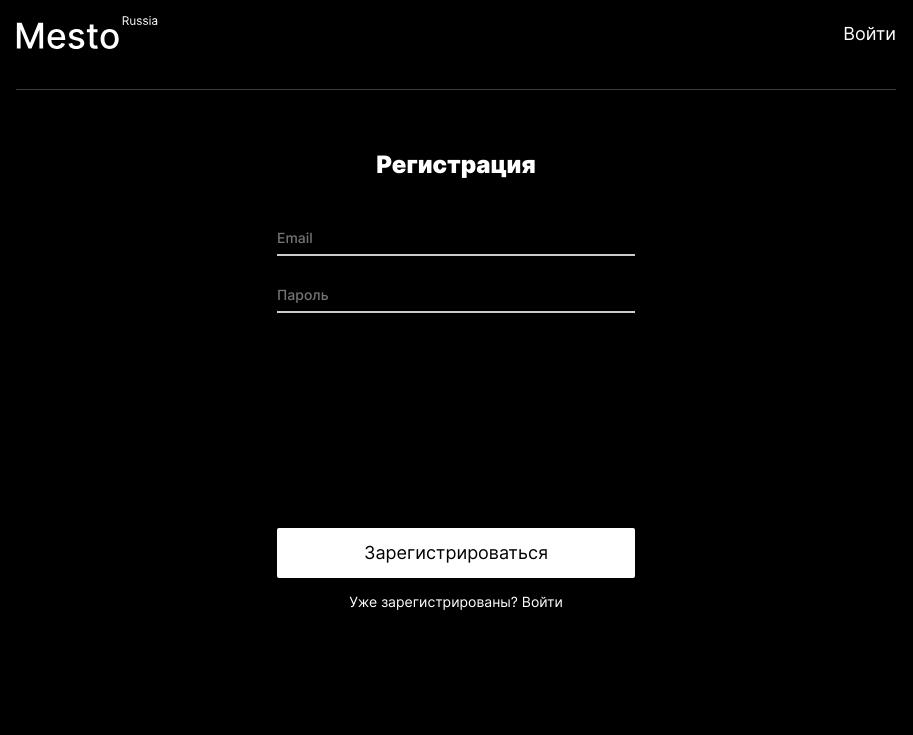
App frontend baseline › completes login happy path and renders main screen
Click the 1st link "Войти". click: point(870, 34)
box: [843,23,896,45]
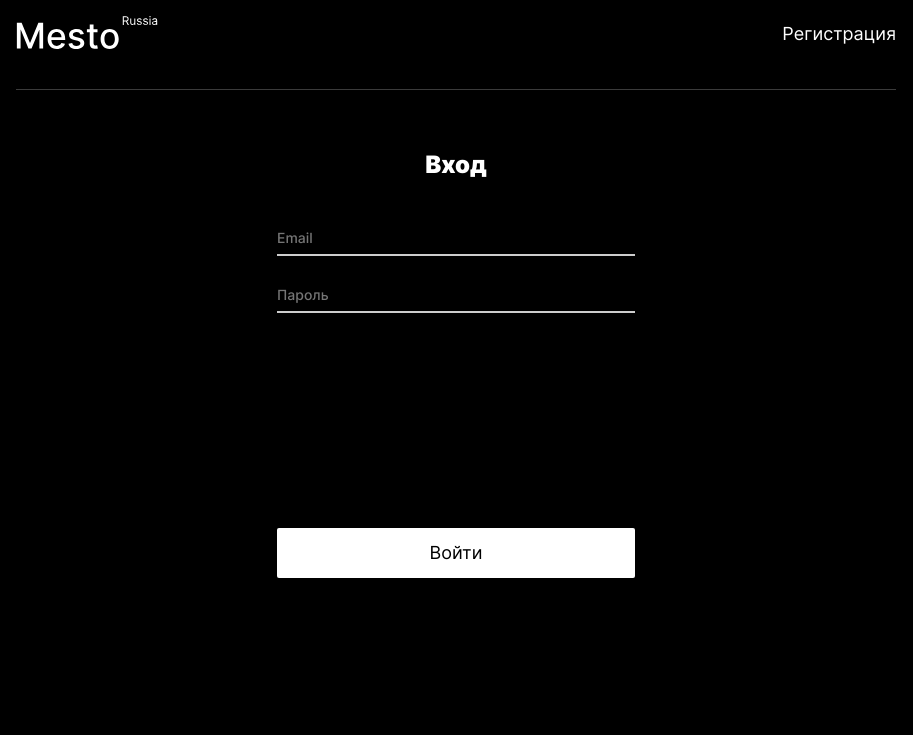
Now the heading "Вход" is shown, box [425,150,487,179]
Type "tester@example.com" into the field with placeholder "Email". click: point(456, 243)
box: [277,229,635,256]
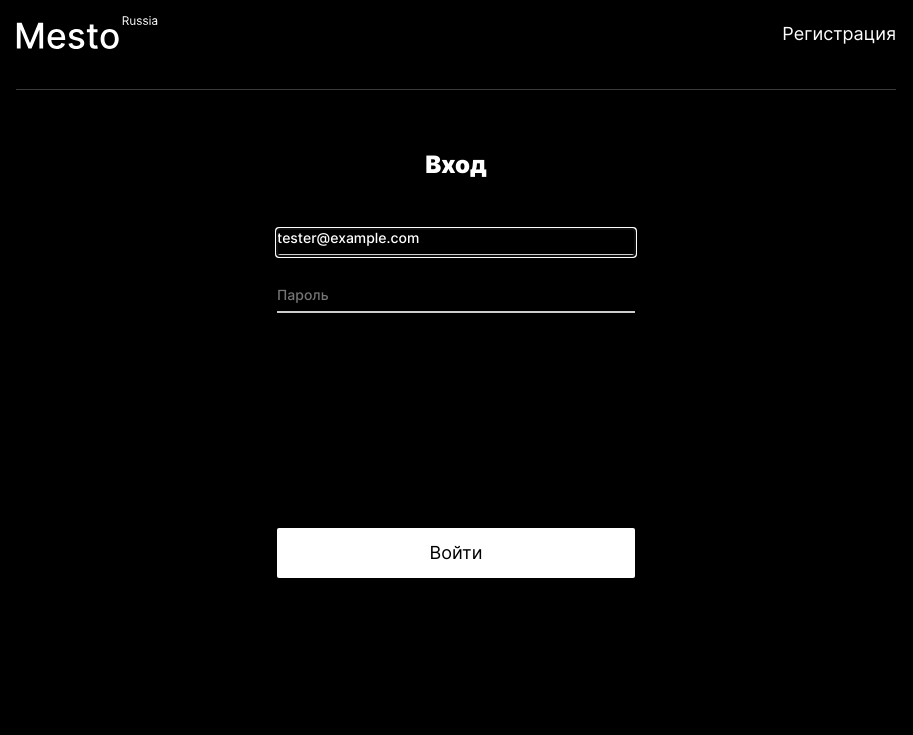
Type "password" into the password field with placeholder "Пароль". click: point(456, 300)
box: [277,286,635,313]
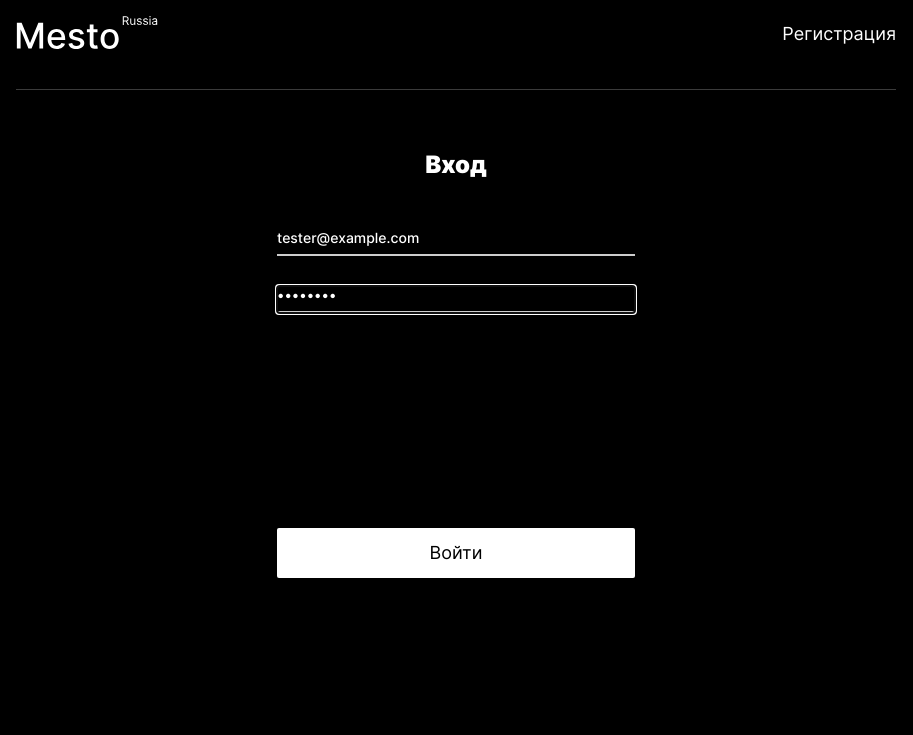
Click the button "Войти". click: point(456, 553)
box: [277,528,635,578]
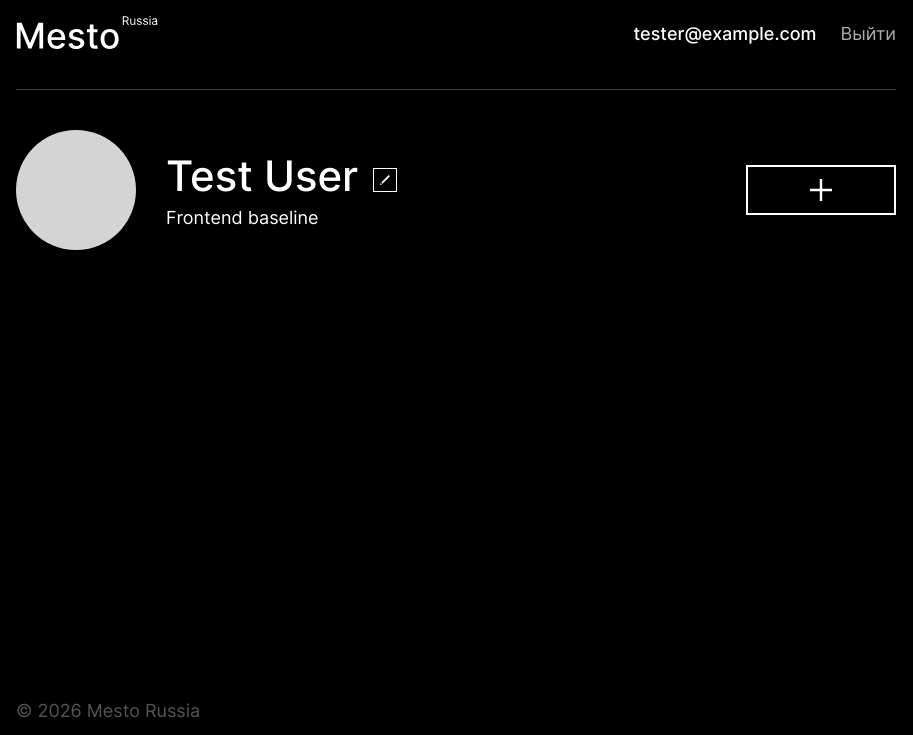
Now the heading "Test User" is shown, box [166,152,358,200]
Now the text "tester@example.com" is shown, box [634,23,816,45]
